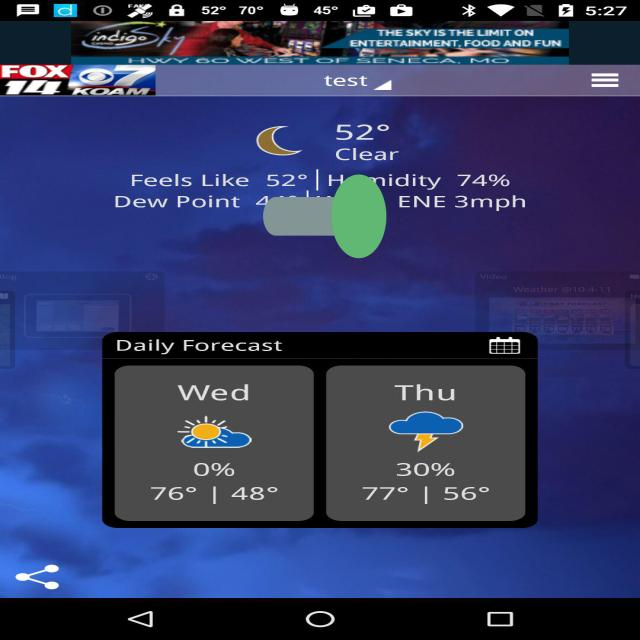social proof: (263, 123, 386, 310)
